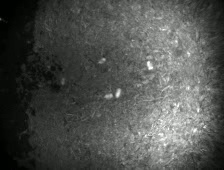corn: (144, 58, 155, 73), (113, 86, 123, 99), (96, 56, 108, 66), (102, 91, 115, 100), (59, 75, 68, 86)
